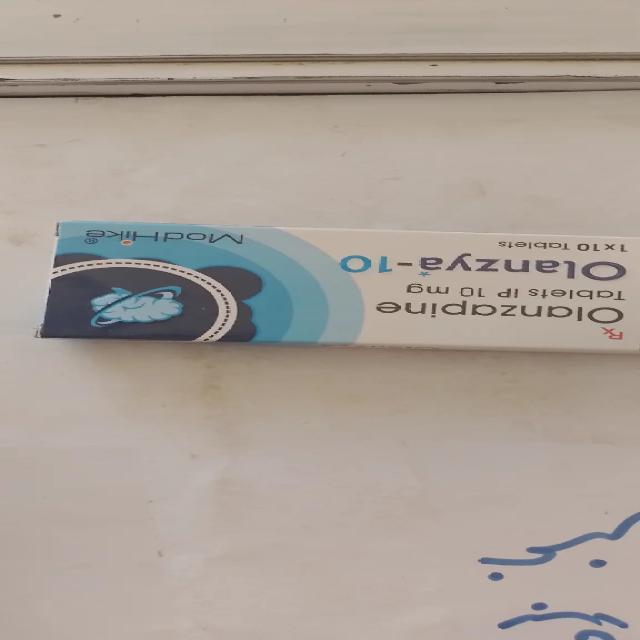drug-name: (337, 252, 628, 282)
